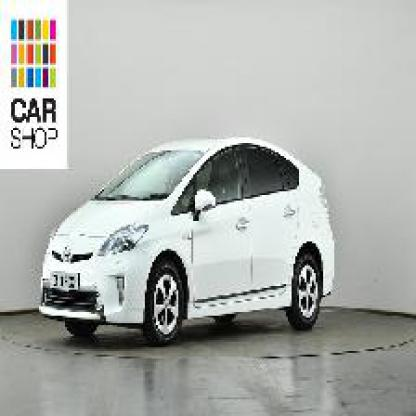not_emergency: (30, 126, 366, 368)
